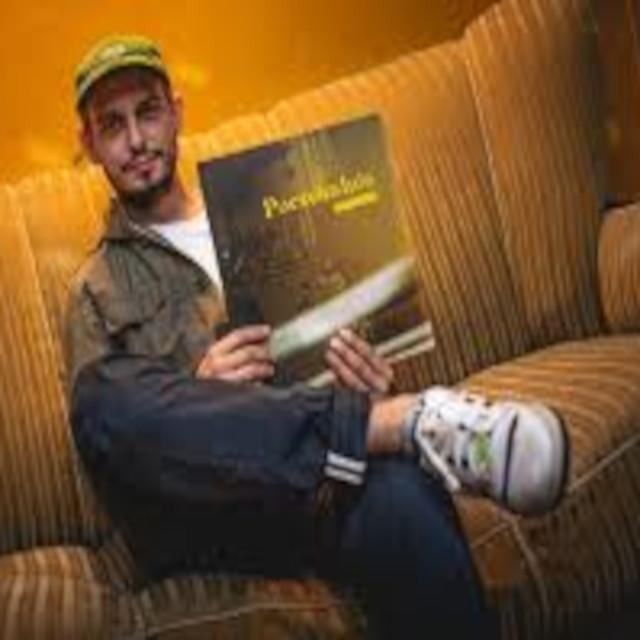mezczyzna: (69, 33, 508, 640)
